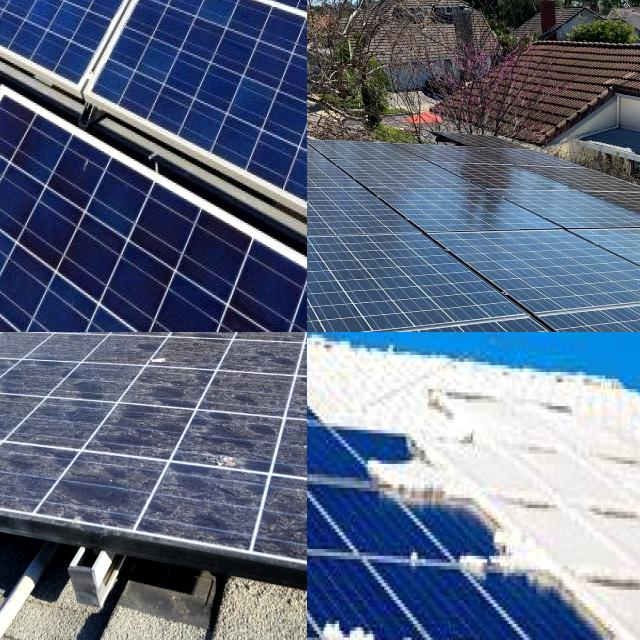crack: (86, 213, 175, 332), (39, 201, 144, 300), (112, 181, 208, 275), (57, 0, 212, 57), (132, 256, 231, 332), (80, 158, 161, 249), (0, 232, 63, 332), (176, 214, 250, 299), (44, 132, 115, 216), (0, 0, 88, 67), (0, 98, 63, 189), (186, 52, 252, 130), (151, 36, 217, 111), (8, 0, 128, 35), (177, 82, 231, 158), (0, 176, 38, 283), (122, 54, 167, 140), (137, 24, 182, 93), (150, 78, 198, 142), (0, 140, 31, 239), (0, 76, 28, 178), (18, 0, 70, 45), (0, 0, 57, 41), (94, 57, 134, 111), (0, 88, 28, 164), (0, 138, 28, 209), (0, 134, 24, 213), (46, 0, 87, 43), (128, 0, 167, 44), (0, 53, 24, 123), (1, 0, 46, 29), (0, 12, 20, 72), (0, 0, 46, 26), (0, 0, 30, 38), (0, 0, 24, 21), (0, 0, 19, 19), (126, 0, 145, 9), (134, 0, 151, 10)
dust: (0, 396, 164, 501), (188, 422, 307, 534), (0, 332, 154, 388), (191, 332, 307, 404), (0, 332, 60, 411), (191, 332, 307, 370), (22, 332, 162, 356), (162, 332, 307, 353), (0, 434, 55, 478)
panel: (307, 338, 427, 438), (530, 447, 640, 523), (367, 433, 473, 509), (450, 372, 552, 442), (452, 532, 546, 600), (571, 534, 640, 606), (307, 332, 422, 370), (307, 603, 420, 640), (307, 576, 352, 639), (307, 365, 353, 423), (307, 539, 334, 627), (442, 606, 488, 640), (307, 505, 333, 565), (307, 370, 325, 441)
